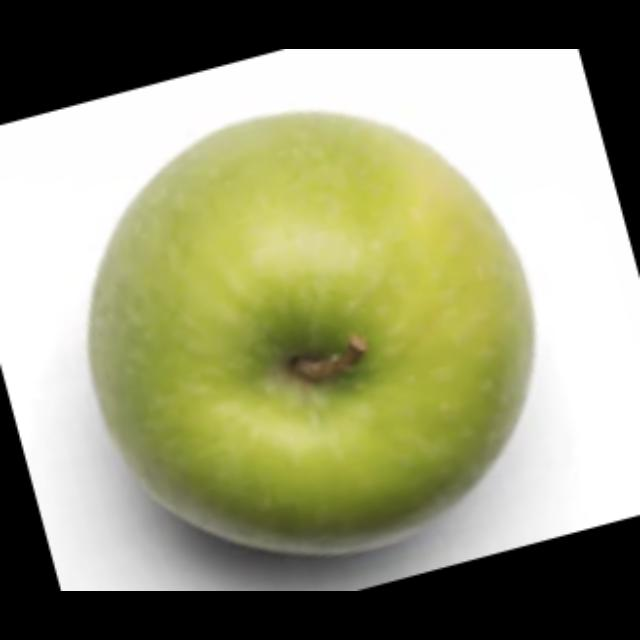Apel Segar: (82, 108, 540, 558)
